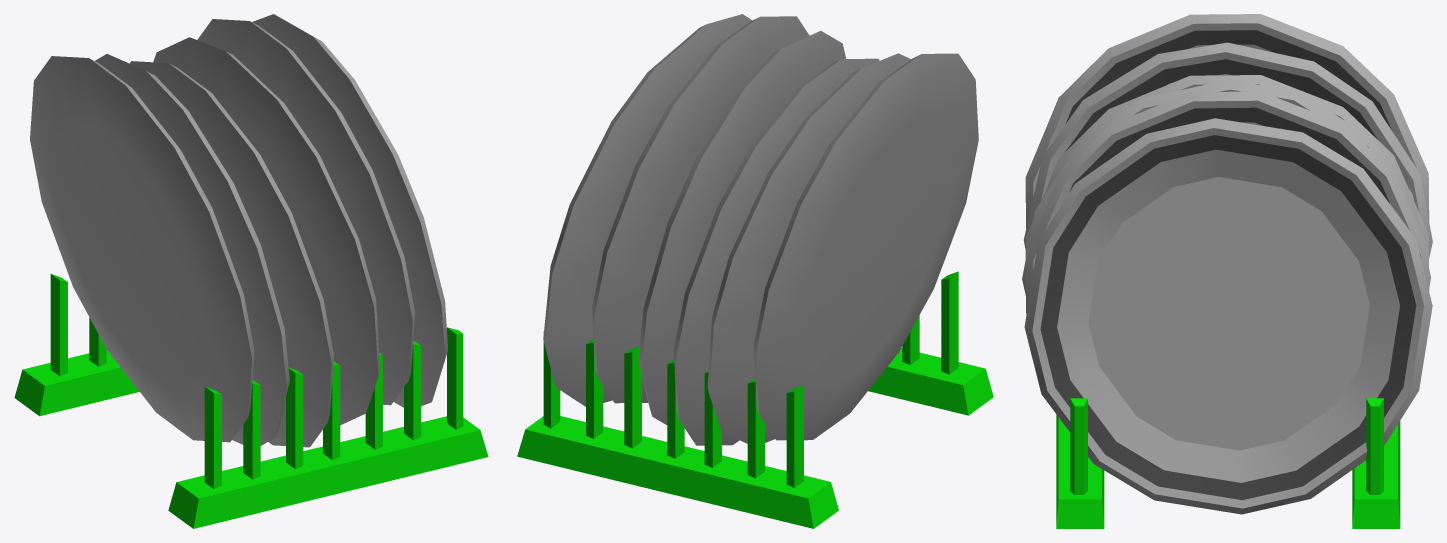
The model's file is StackOfPlates_2.fbx.
The picture shows the model from 3 angles, left to right: view 1: azimuth 30°, elevation 25°; view 2: azimuth 150°, elevation 25°; view 3: azimuth 270°, elevation 25°; orthographic projection. The views are drawn at different scales.
Parts seen in each view (by area): view 1: Kitchen_StackOfPlates_2; view 2: Kitchen_StackOfPlates_2; view 3: Kitchen_StackOfPlates_2.
Part boxes in pixels (box(x1,y1,x2,y2)): Kitchen_StackOfPlates_2: box(14, 14, 488, 528); Kitchen_StackOfPlates_2: box(517, 14, 993, 528); Kitchen_StackOfPlates_2: box(1022, 14, 1432, 528).
Bounding box in the file's own units: 35.49 × 45.77 × 44.51.
